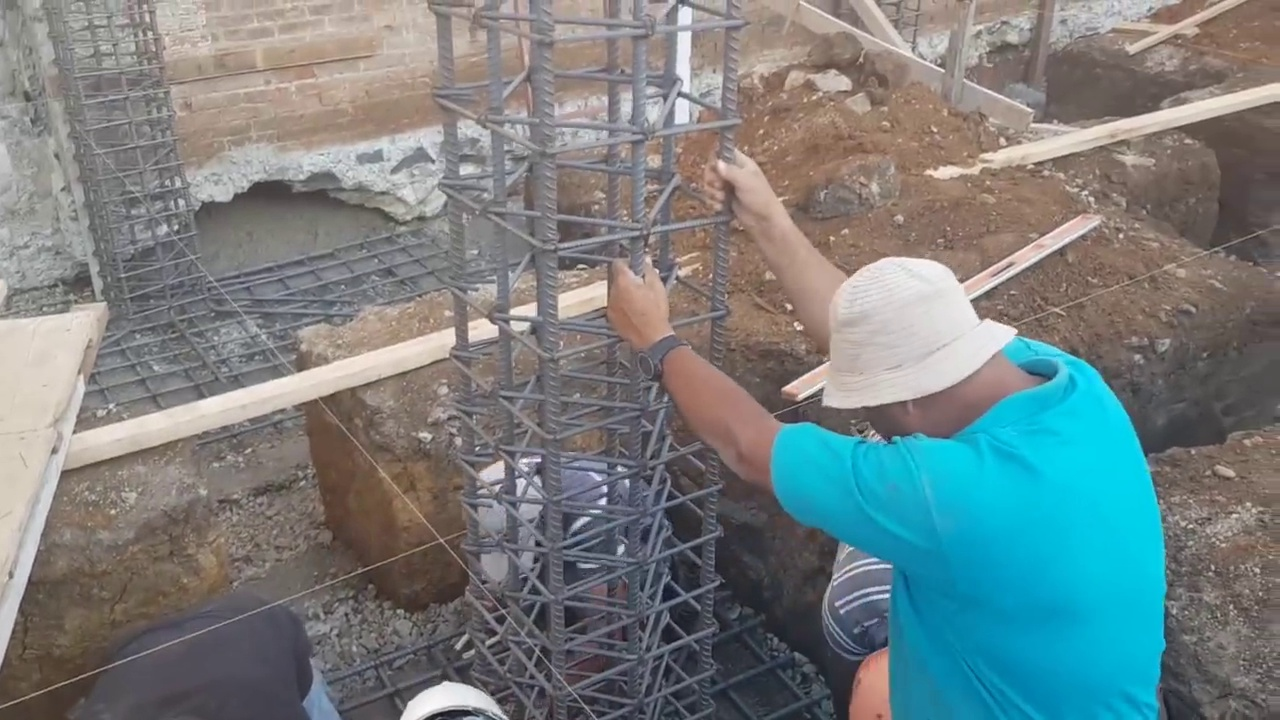helmet: (398, 677, 507, 718)
helmet-off: (823, 268, 1056, 436), (450, 443, 552, 591)
person: (606, 146, 1194, 720), (454, 450, 663, 671), (46, 592, 352, 718)
